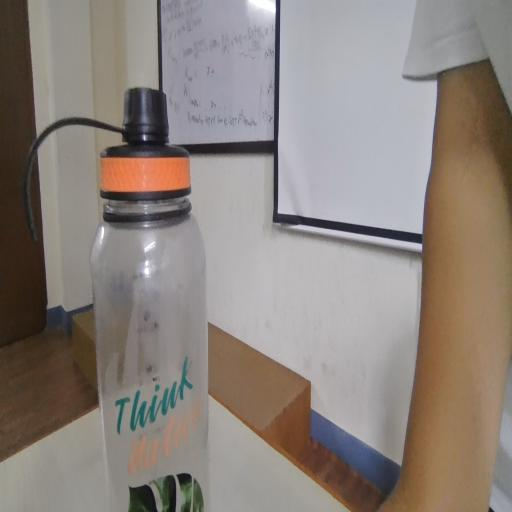Bottle: (78, 88, 228, 509)
